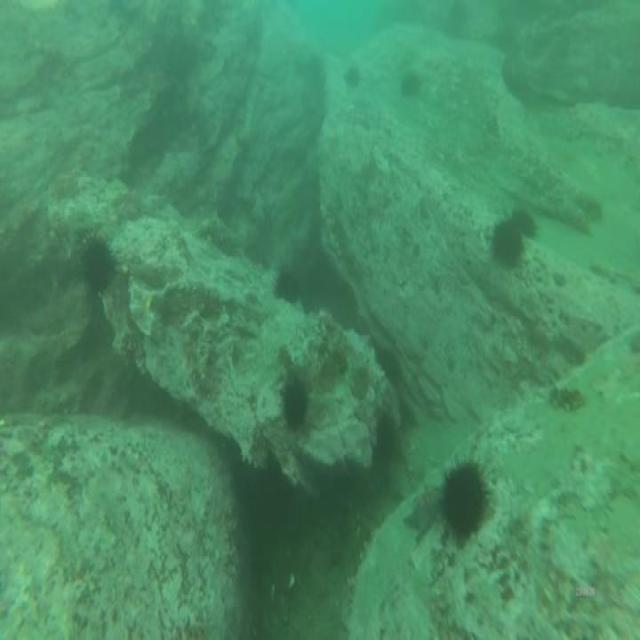echinus: (444, 465, 484, 534), (80, 240, 112, 291), (490, 221, 522, 267), (282, 379, 306, 430), (377, 409, 400, 462), (377, 346, 402, 384), (273, 273, 297, 305), (512, 204, 535, 235), (398, 70, 421, 96), (343, 66, 360, 84)
holothurian: (546, 381, 588, 414)
starfish: (402, 482, 442, 540)
